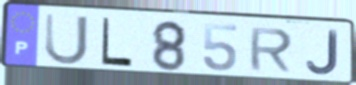5: (201, 21, 239, 72)
8: (150, 18, 189, 72)
J: (304, 29, 339, 77)
L: (99, 15, 135, 68)
R: (247, 26, 295, 74)
U: (43, 11, 91, 66)
